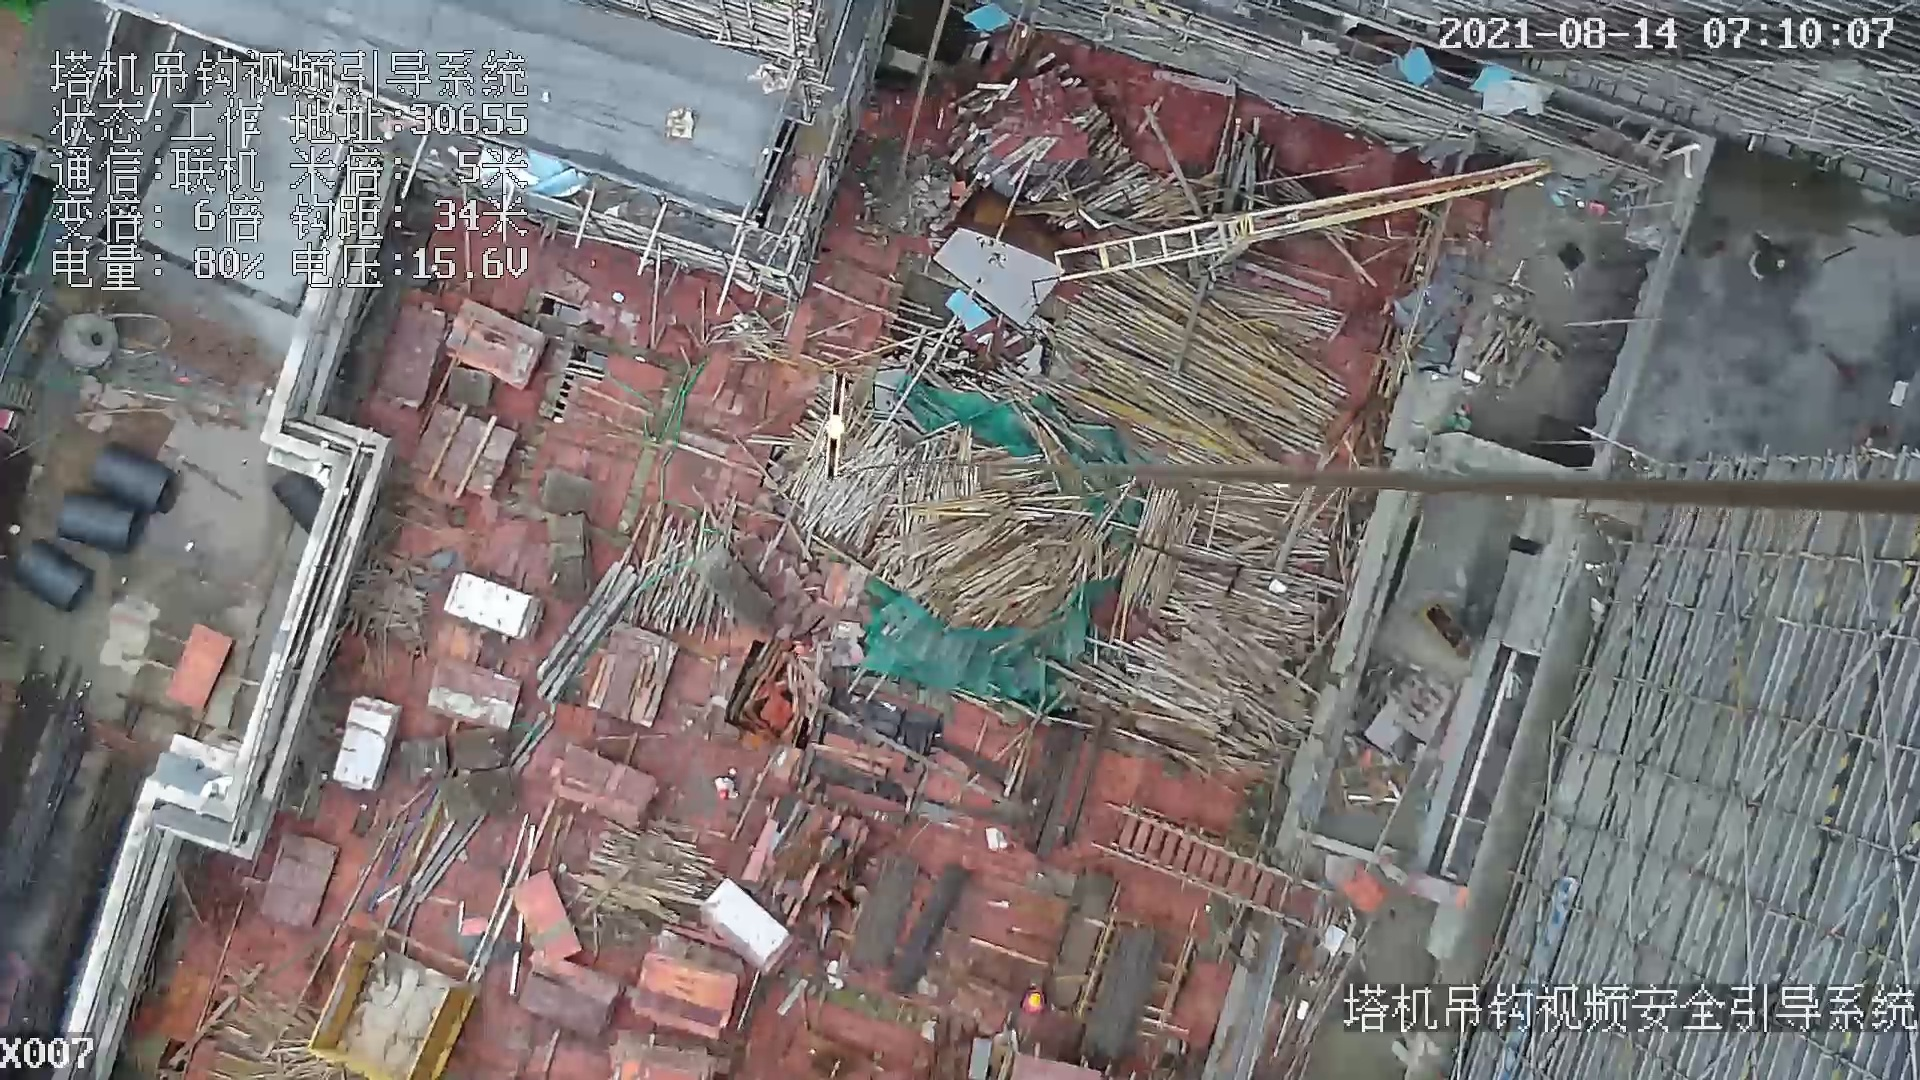helmet: (719, 789, 729, 800)
hook: (820, 369, 847, 485)
person: (713, 765, 744, 804)
